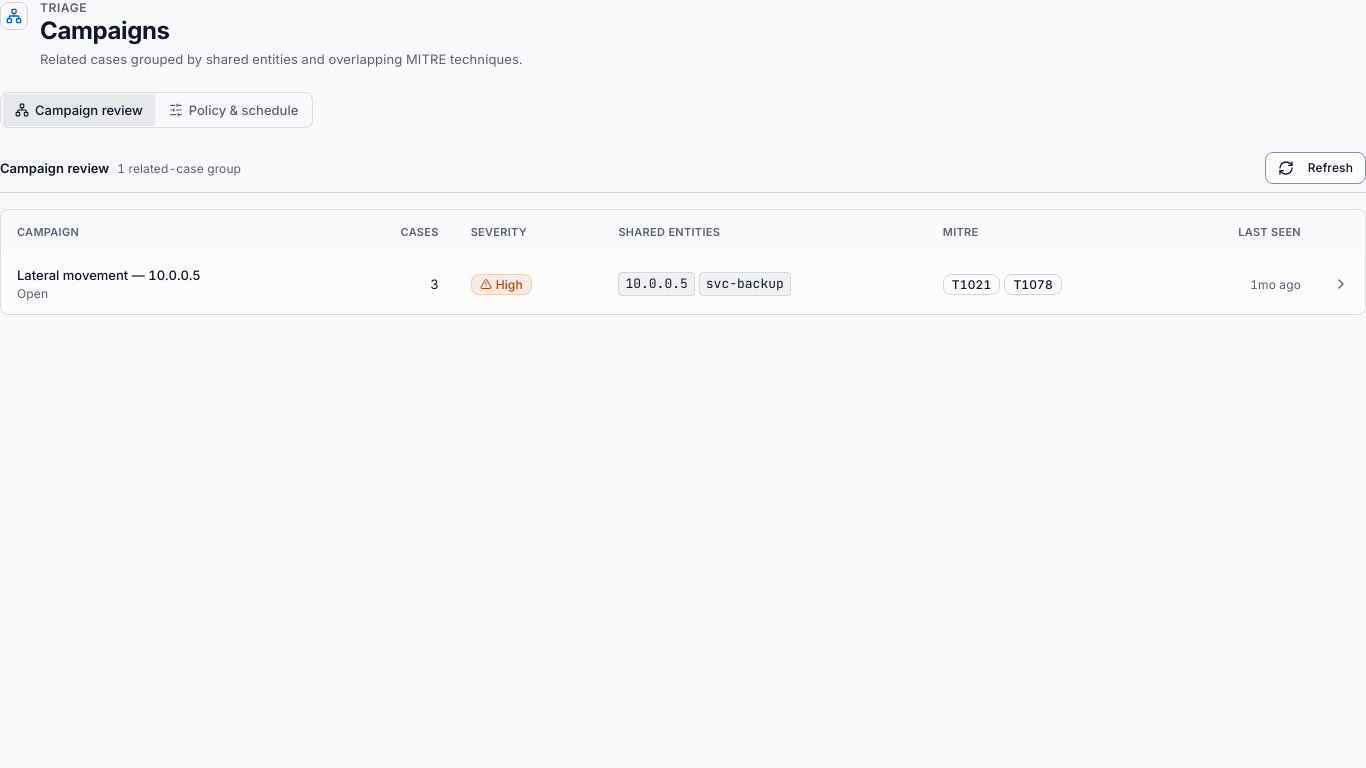
Test case: Campaigns page › opens the detail sheet with member cases on row click
Click the text "Lateral movement — 10.0.0.5" at coordinates (109, 275), box [17,267,201,283]
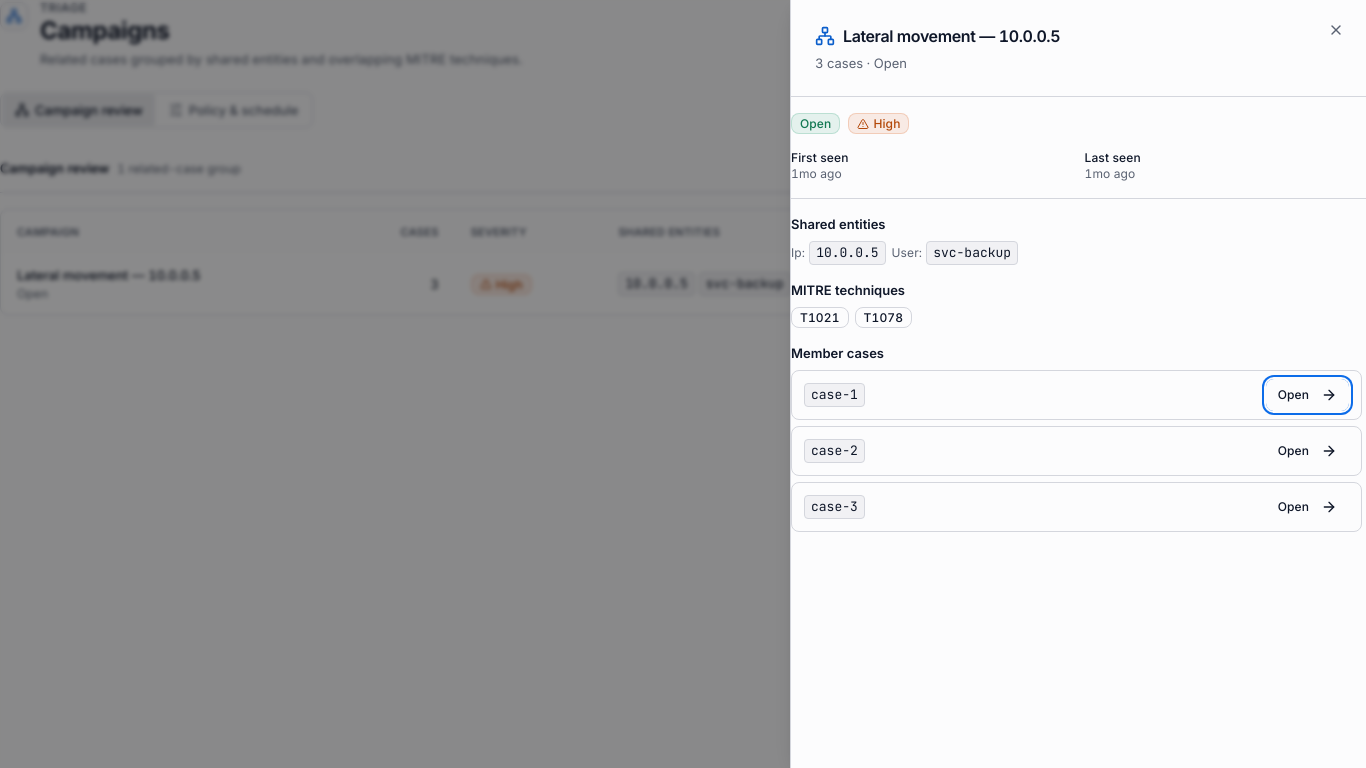
Result: the text "case-1" is shown at [804,383,865,407]
Result: the text "case-2" is shown at [804,439,865,463]
